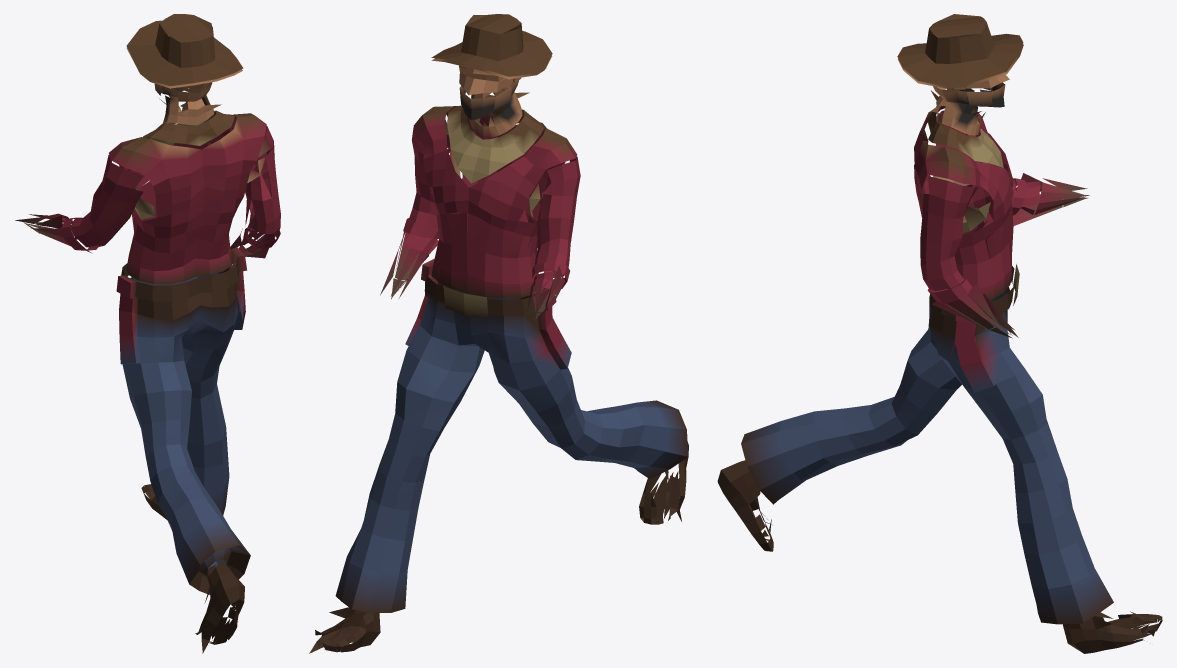
The model's file is man_5_w3.fbx.
3 renders of one model, left to right at view 1: azimuth 30°, elevation 25°; view 2: azimuth 150°, elevation 25°; view 3: azimuth 270°, elevation 25°, orthographic. The views are drawn at different scales.
Parts seen in each view (by area): view 1: cowboy; view 2: cowboy; view 3: cowboy.
Part boxes in pixels (bbox=[...]): cowboy: bbox=[15, 14, 280, 653]; cowboy: bbox=[309, 14, 688, 653]; cowboy: bbox=[717, 14, 1162, 653].
Bounding box in the file's own units: 0.3603 × 0.9727 × 0.6585.
